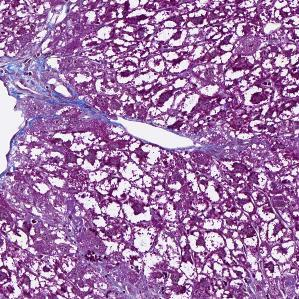fibrosis: (7, 73, 106, 133)
